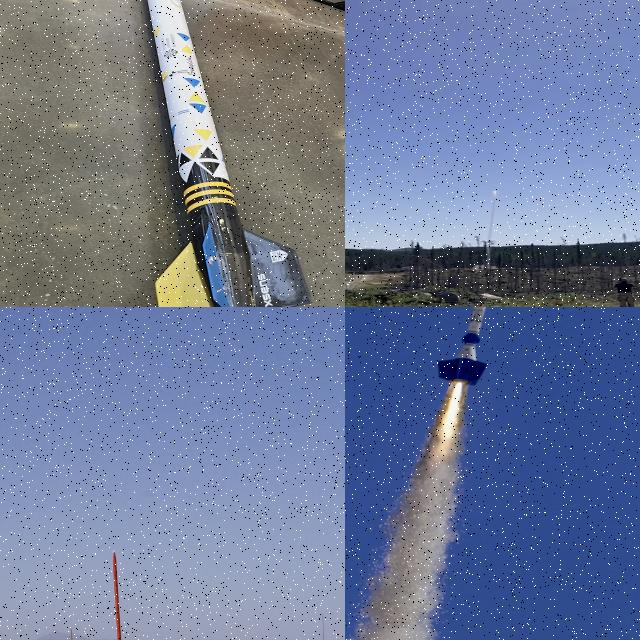Rocket: (148, 0, 312, 307), (437, 307, 494, 386), (109, 549, 131, 640), (494, 188, 498, 190)
